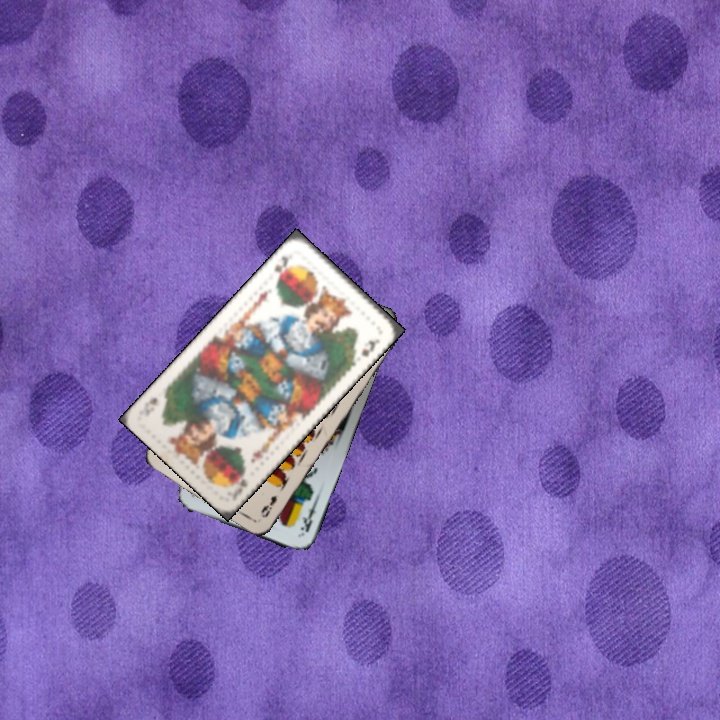E9: (257, 491, 280, 521)
EK: (296, 498, 320, 537)
SK: (269, 250, 296, 283), (233, 466, 250, 494)
